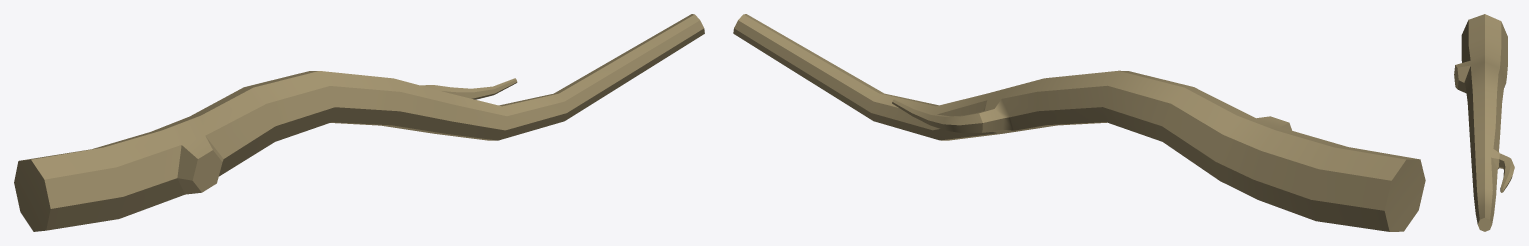
The model's file is Wood Platform.fbx.
3 renders of one model, left to right at view 1: azimuth 30°, elevation 25°; view 2: azimuth 150°, elevation 25°; view 3: azimuth 270°, elevation 25°, orthographic. The views are drawn at different scales.
Visible parts, largest first — view 1: pCylinder1; view 2: pCylinder1; view 3: pCylinder1.
Part boxes in pixels (x1,y1,x2,y2): pCylinder1: [14, 14, 704, 231]; pCylinder1: [733, 14, 1425, 231]; pCylinder1: [1454, 14, 1514, 231].
Bounding box in the file's own units: 19.94 × 3.17 × 2.62.
